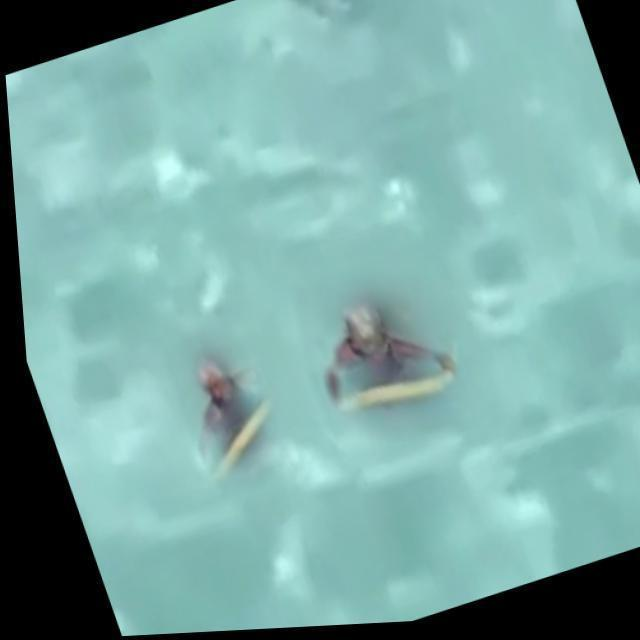swimming: (304, 288, 460, 406), (170, 352, 285, 452)
